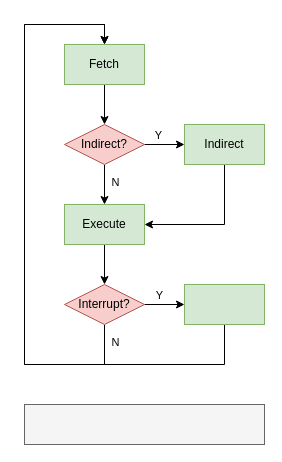
The diagram is 282 pixels wide and 462 high, and some of its shapes have lost their labels. The shapes that lost their labels are listed below. From the top down, each one's centre as x and y in pixels, then its label:
(x=224, y=304): Interrupt
(x=144, y=424): Instruction Cycle Flowchart
